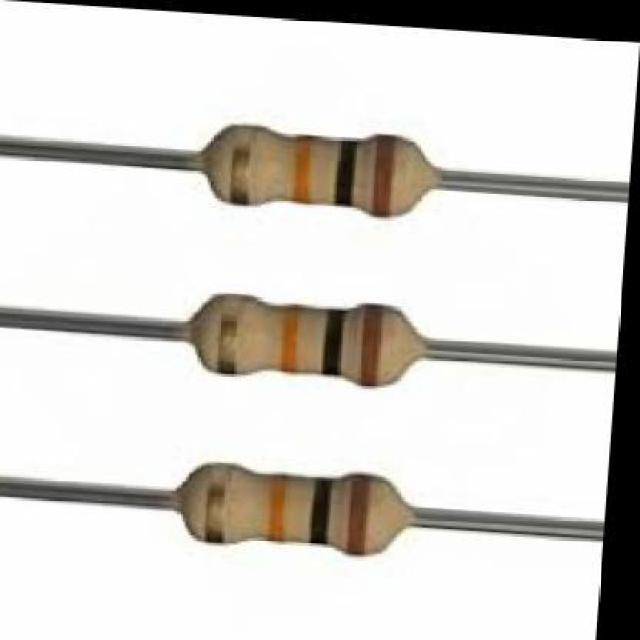Resistor: (0, 125, 628, 217), (0, 294, 615, 387), (0, 462, 602, 554)
